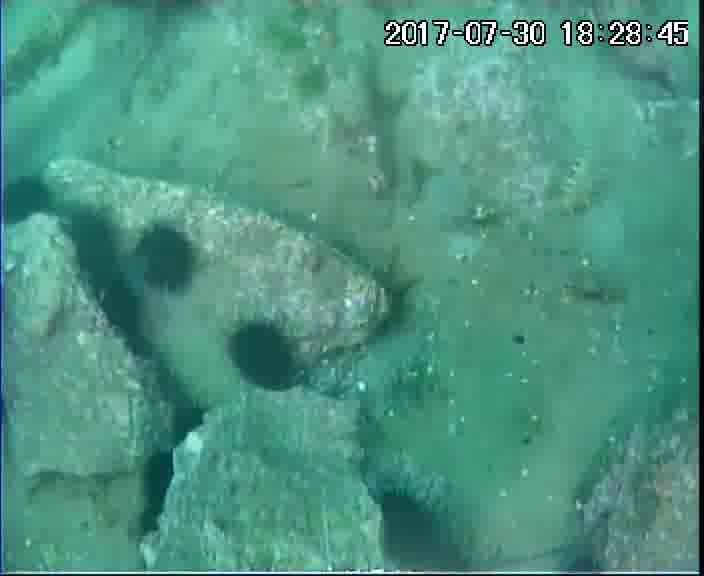echinus: (223, 318, 295, 387), (64, 211, 123, 285), (132, 226, 197, 292), (378, 492, 441, 560), (137, 451, 189, 533), (98, 279, 149, 343), (2, 174, 55, 227), (167, 400, 214, 447)
